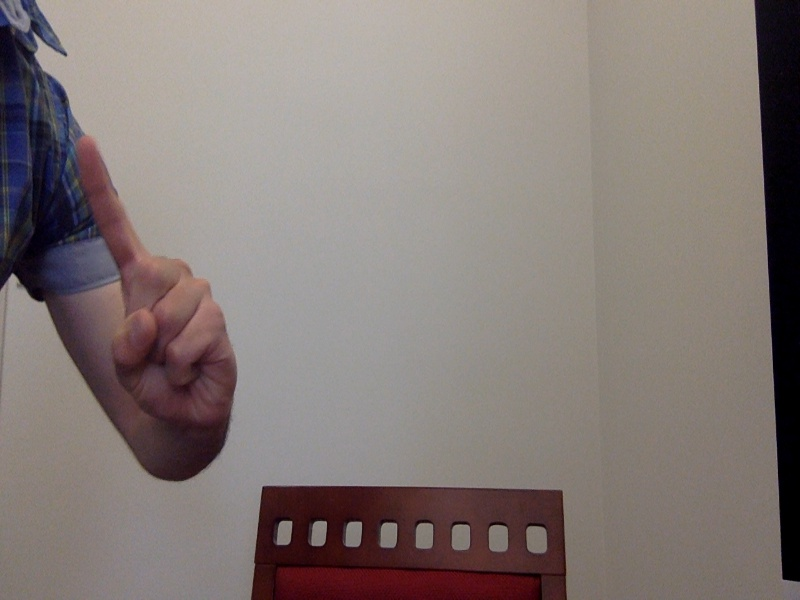1-hand: (76, 138, 243, 428)
